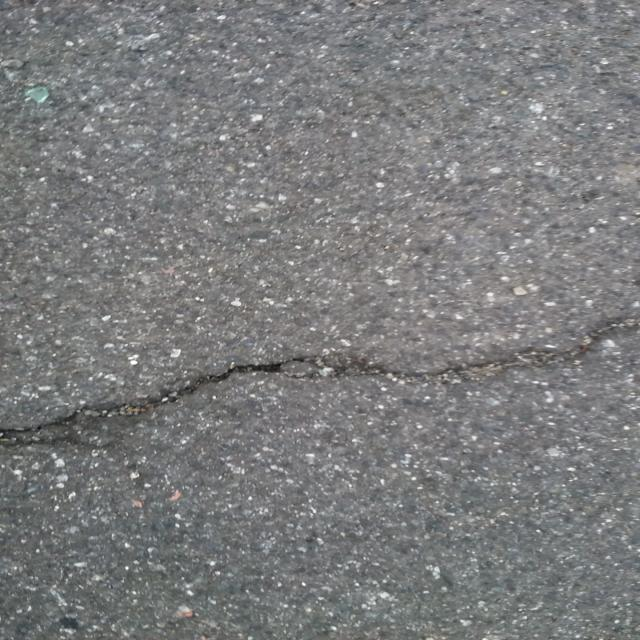transverse: (0, 304, 636, 473)
